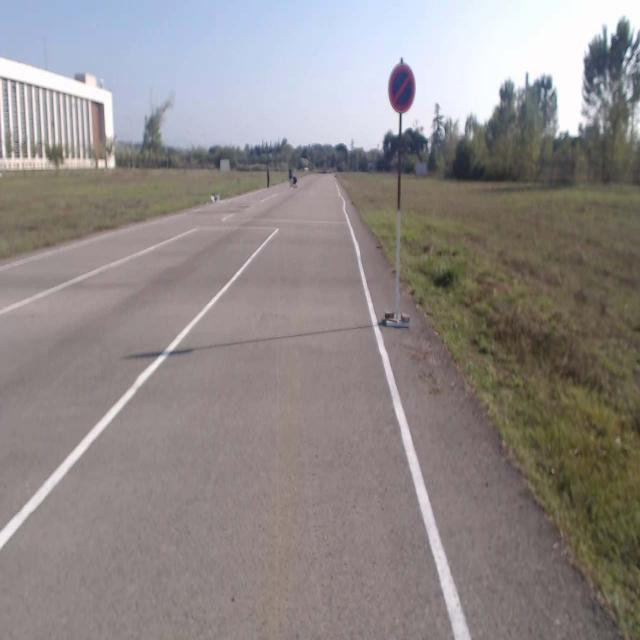parkyasak: (389, 64, 415, 112)
